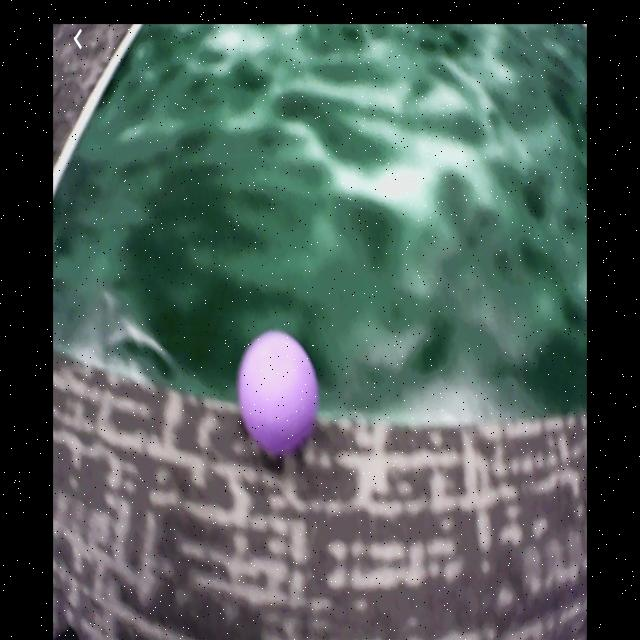ball: (239, 330, 317, 451)
